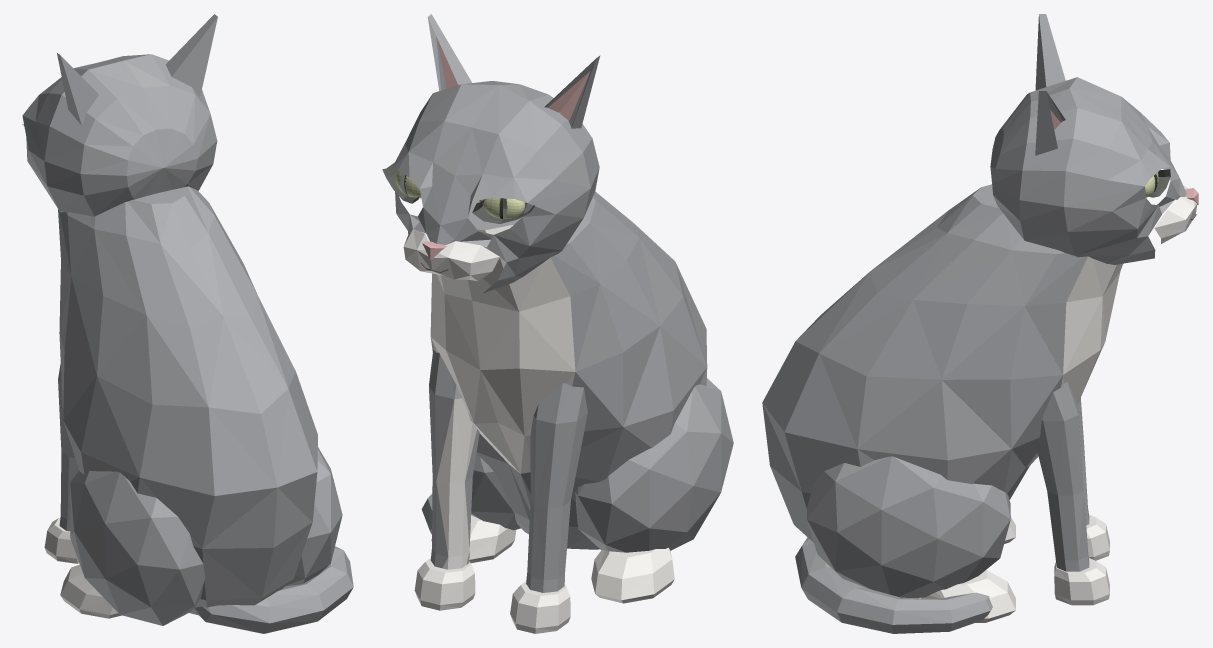
Rendered from cat_v8.glb.
The picture shows the model from 3 angles, left to right: view 1: azimuth 30°, elevation 25°; view 2: azimuth 150°, elevation 25°; view 3: azimuth 270°, elevation 25°; orthographic projection. The views are drawn at different scales.
Parts seen in each view (by area): view 1: Rounded_Torso_Graphite, Sculpted_Head_Graphite, Haunch_Right_Graphite, Haunch_Right_GraphiteMid, Rounded_Torso_GraphiteLight, Sculpted_Head_GraphiteMid, Haunch_Right_GraphiteLight, Curled_tail_Graphite, Haunch_Left_GraphiteMid, Curled_tail_GraphiteMid, Sculpted_Head_GraphiteLight, Hind_paw_Right_Ivory (+9 smaller); view 2: Rounded_Torso_Graphite, Sculpted_Head_Graphite, Rounded_Torso_Ivory, Haunch_Right_Graphite, Foreleg_Right_Graphite, Haunch_Right_GraphiteMid, Hind_paw_Right_Ivory, Sculpted_Head_GraphiteMid, Foreleg_Left_Graphite_Inner_White, Sculpted_Head_Ivory, Front_paw_Left_Ivory, Front_paw_Right_Ivory (+16 smaller); view 3: Rounded_Torso_Graphite, Sculpted_Head_Graphite, Haunch_Left_Graphite, Haunch_Left_GraphiteMid, Rounded_Torso_Ivory, Curled_tail_Graphite, Foreleg_Left_Graphite, Rounded_Torso_GraphiteLight, Curled_tail_GraphiteMid, Front_paw_Left_Ivory, Sculpted_Head_GraphiteMid, Hind_paw_Left_Ivory (+9 smaller).
Part boxes in pixels (x1,y1,x2,y2): Rounded_Torso_Graphite: [58, 186, 317, 615]; Sculpted_Head_Graphite: [22, 54, 217, 216]; Haunch_Right_Graphite: [70, 471, 204, 625]; Haunch_Right_GraphiteMid: [70, 486, 204, 625]; Rounded_Torso_GraphiteLight: [137, 203, 214, 548]; Sculpted_Head_GraphiteMid: [28, 85, 209, 210]; Haunch_Right_GraphiteLight: [74, 471, 193, 625]; Curled_tail_Graphite: [193, 546, 353, 633]; Haunch_Left_GraphiteMid: [285, 449, 342, 586]; Curled_tail_GraphiteMid: [256, 562, 353, 623]; Sculpted_Head_GraphiteLight: [35, 60, 169, 160]; Hind_paw_Right_Ivory: [60, 564, 121, 618]; Rounded_Torso_Graphite: [430, 191, 707, 549]; Sculpted_Head_Graphite: [391, 81, 599, 293]; Rounded_Torso_Ivory: [430, 224, 575, 473]; Haunch_Right_Graphite: [575, 378, 721, 552]; Foreleg_Right_Graphite: [527, 383, 587, 592]; Haunch_Right_GraphiteMid: [578, 392, 733, 550]; Hind_paw_Right_Ivory: [591, 548, 674, 603]; Sculpted_Head_GraphiteMid: [396, 121, 592, 250]; Foreleg_Left_Graphite_Inner_White: [436, 398, 476, 569]; Sculpted_Head_Ivory: [403, 229, 499, 281]; Front_paw_Left_Ivory: [414, 558, 475, 610]; Front_paw_Right_Ivory: [510, 581, 570, 633]; Rounded_Torso_Graphite: [762, 184, 1087, 542]; Sculpted_Head_Graphite: [990, 77, 1186, 264]; Haunch_Left_Graphite: [807, 456, 1010, 597]; Haunch_Left_GraphiteMid: [806, 457, 1010, 589]; Rounded_Torso_Ivory: [1026, 256, 1122, 467]; Curled_tail_Graphite: [801, 539, 992, 633]; Foreleg_Left_Graphite: [1042, 382, 1089, 571]; Rounded_Torso_GraphiteLight: [937, 188, 1056, 306]; Curled_tail_GraphiteMid: [795, 537, 989, 624]; Front_paw_Left_Ivory: [1054, 558, 1109, 605]; Sculpted_Head_GraphiteMid: [991, 94, 1181, 255]; Hind_paw_Left_Ivory: [921, 570, 1015, 622].
Size of the model in its own units: 0.0762 by 0.15 by 0.1139.
